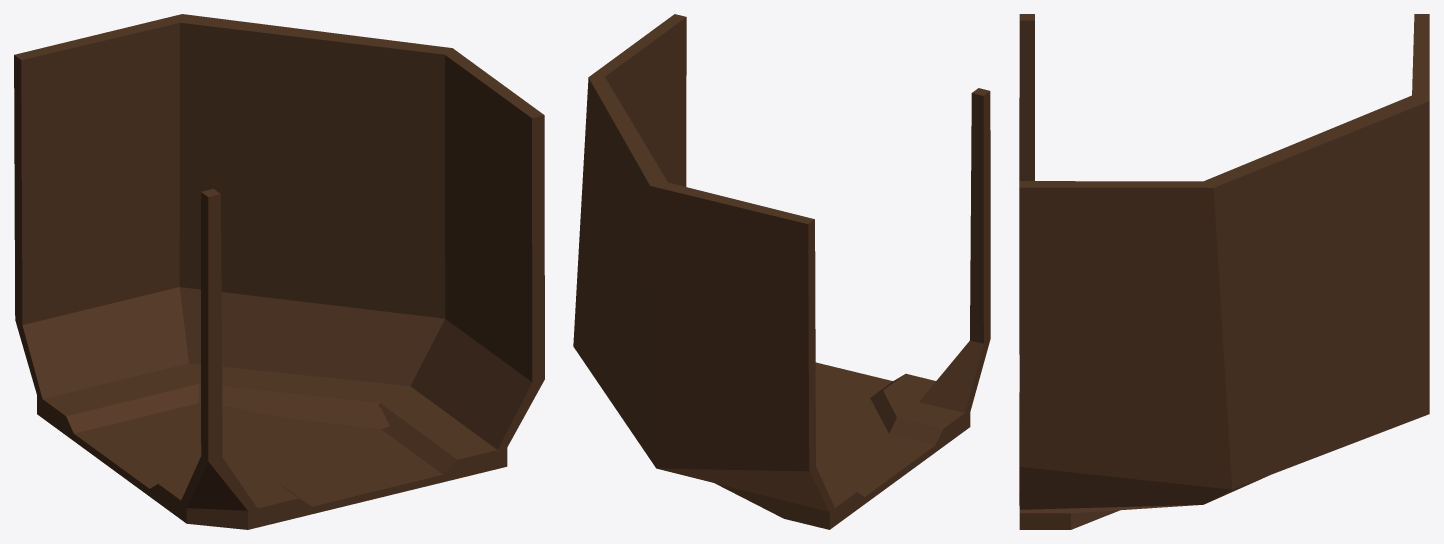
The model's file is corner1.fbx.
3 renders of one model, left to right at view 1: azimuth 30°, elevation 25°; view 2: azimuth 150°, elevation 25°; view 3: azimuth 270°, elevation 25°, orthographic. The views are drawn at different scales.
Visible parts, largest first — view 1: Cube.013; view 2: Cube.013; view 3: Cube.013.
Part boxes in pixels (x1,y1,x2,y2): Cube.013: [14, 14, 544, 529]; Cube.013: [573, 14, 990, 529]; Cube.013: [1019, 14, 1429, 529].
Bounding box in the file's own units: 8122 × 7732 × 7952.
